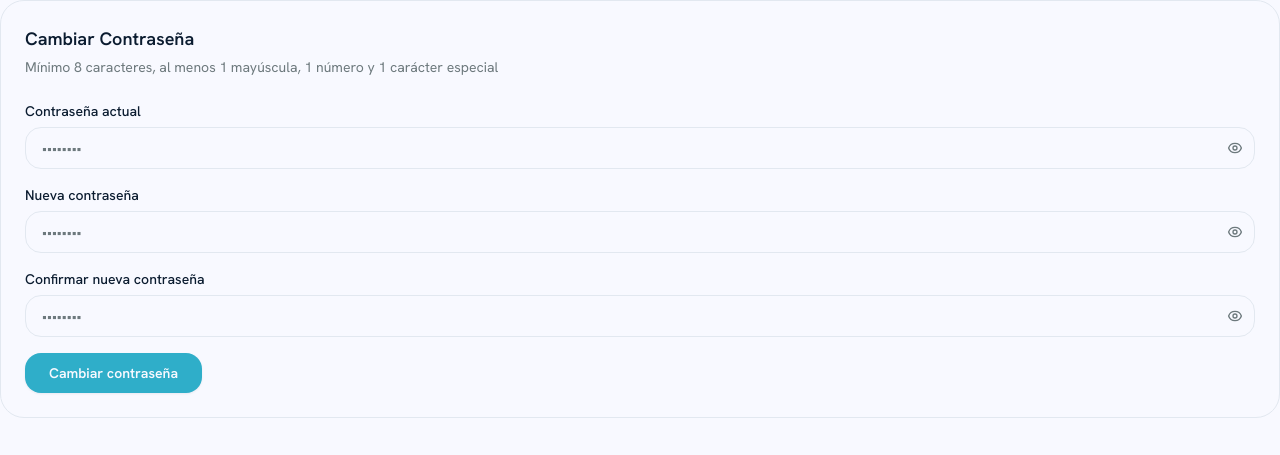
Test: ChangePasswordForm (CU-10/CU-11) › valida que las contraseñas nuevas coincidan
Step 1. Type "OldPass1" into the password field labelled "Contraseña actual" → (640, 148), box x1=25 y1=127 x2=1255 y2=169
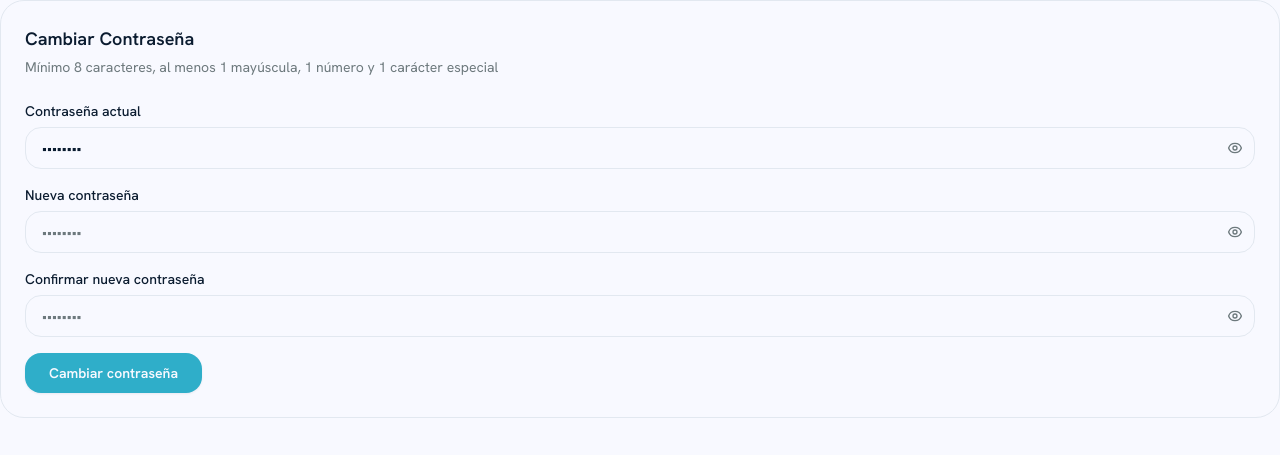
Step 2. Type "NewPass1!" into the password field labelled "Nueva contraseña" → (640, 232), box x1=25 y1=211 x2=1255 y2=253
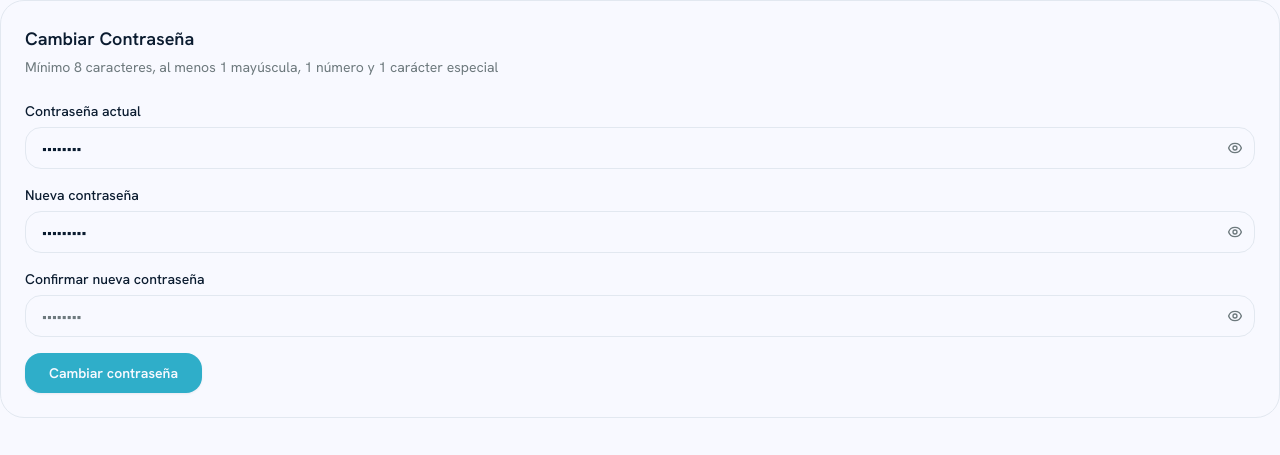
Step 3. Type "Different1!" into the password field labelled "Confirmar nueva contraseña" → (640, 316), box x1=25 y1=295 x2=1255 y2=337
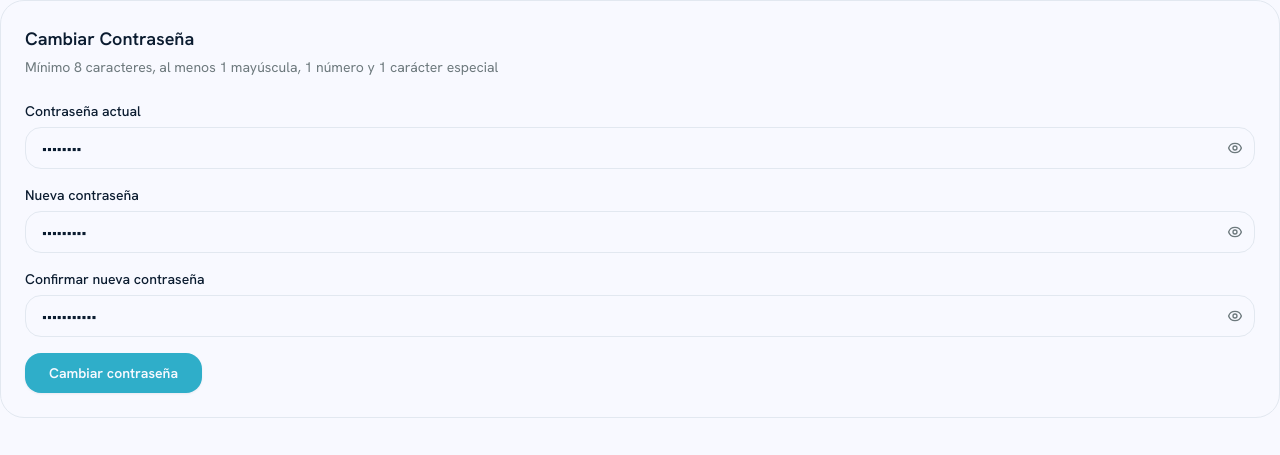
Step 4. Click the button "Cambiar contraseña" → click(114, 373), box x1=25 y1=353 x2=202 y2=393
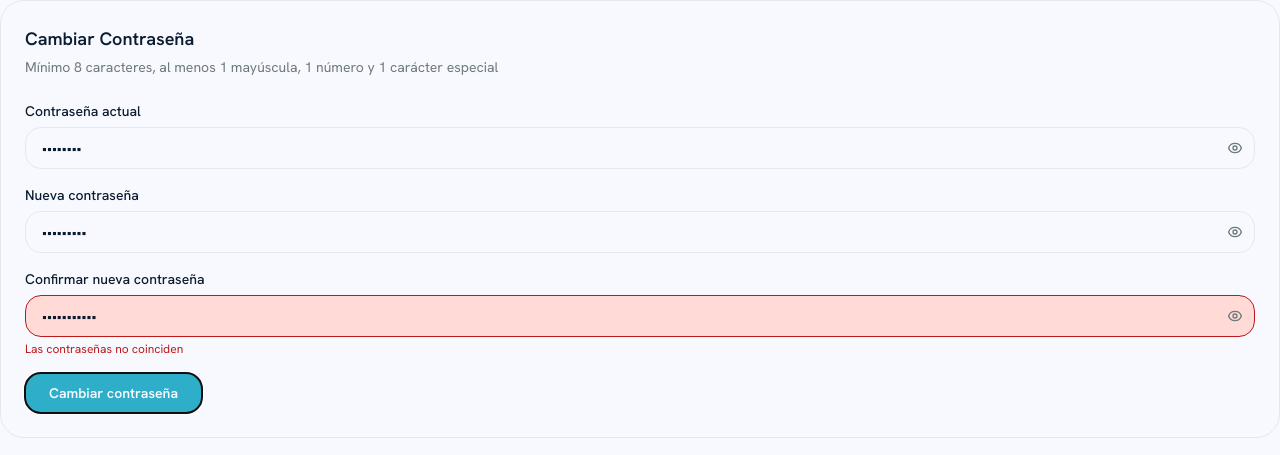
Now the text "Las contraseñas no coinciden" is shown, box x1=25 y1=341 x2=183 y2=357
